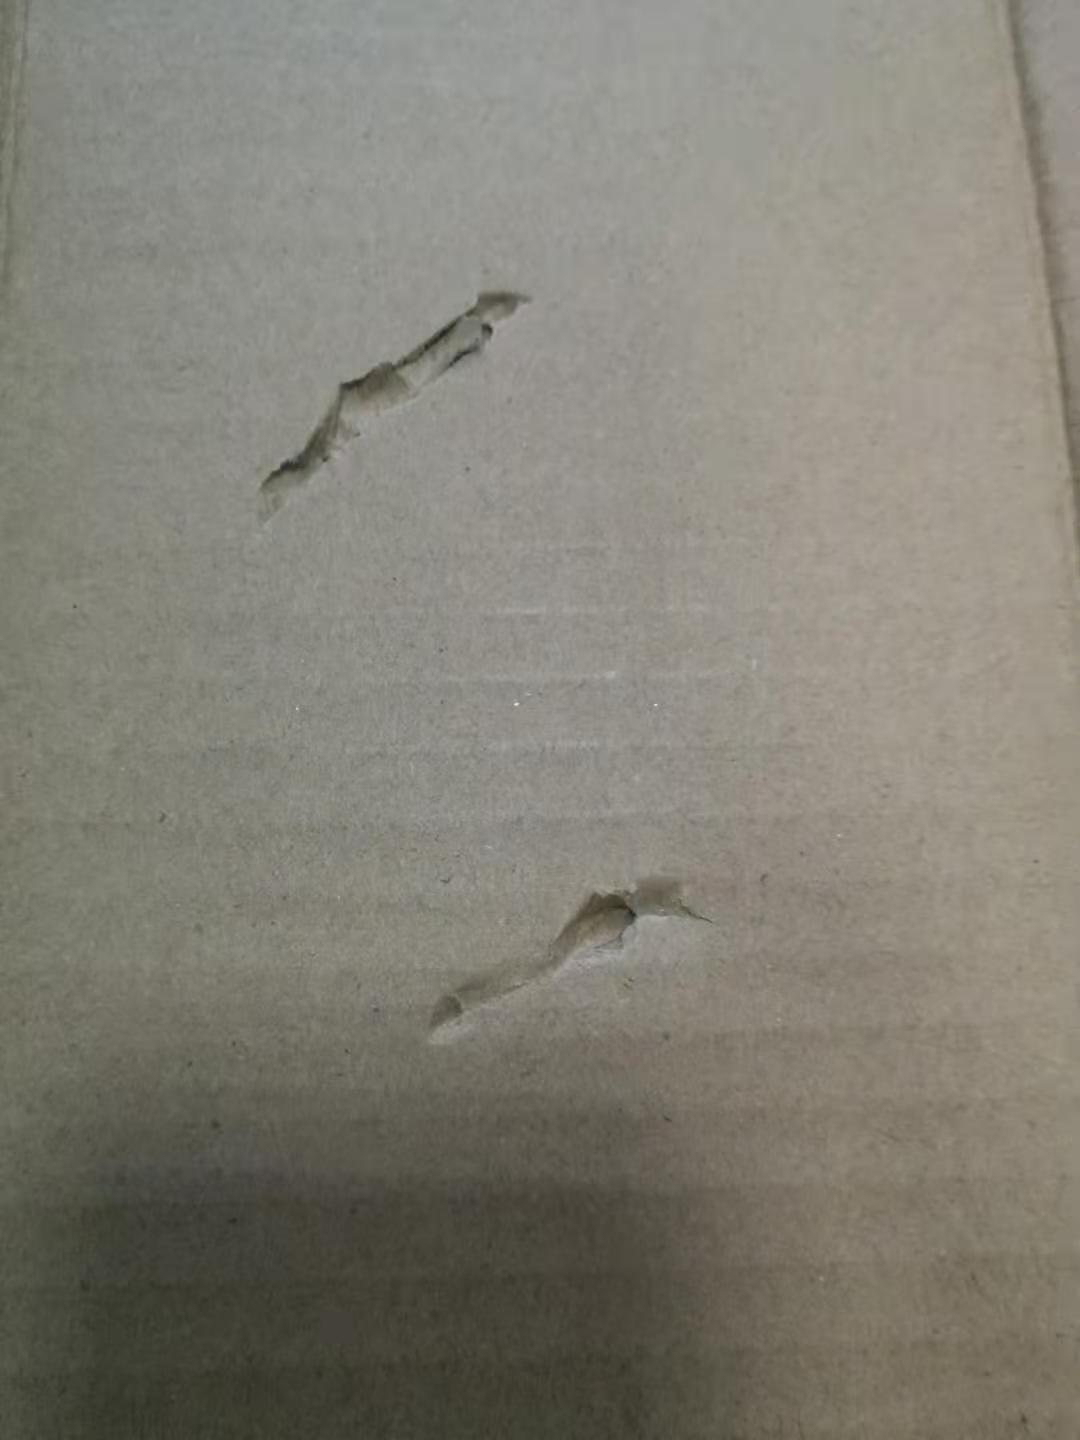defect: (216, 238, 565, 556), (395, 835, 752, 1078)
